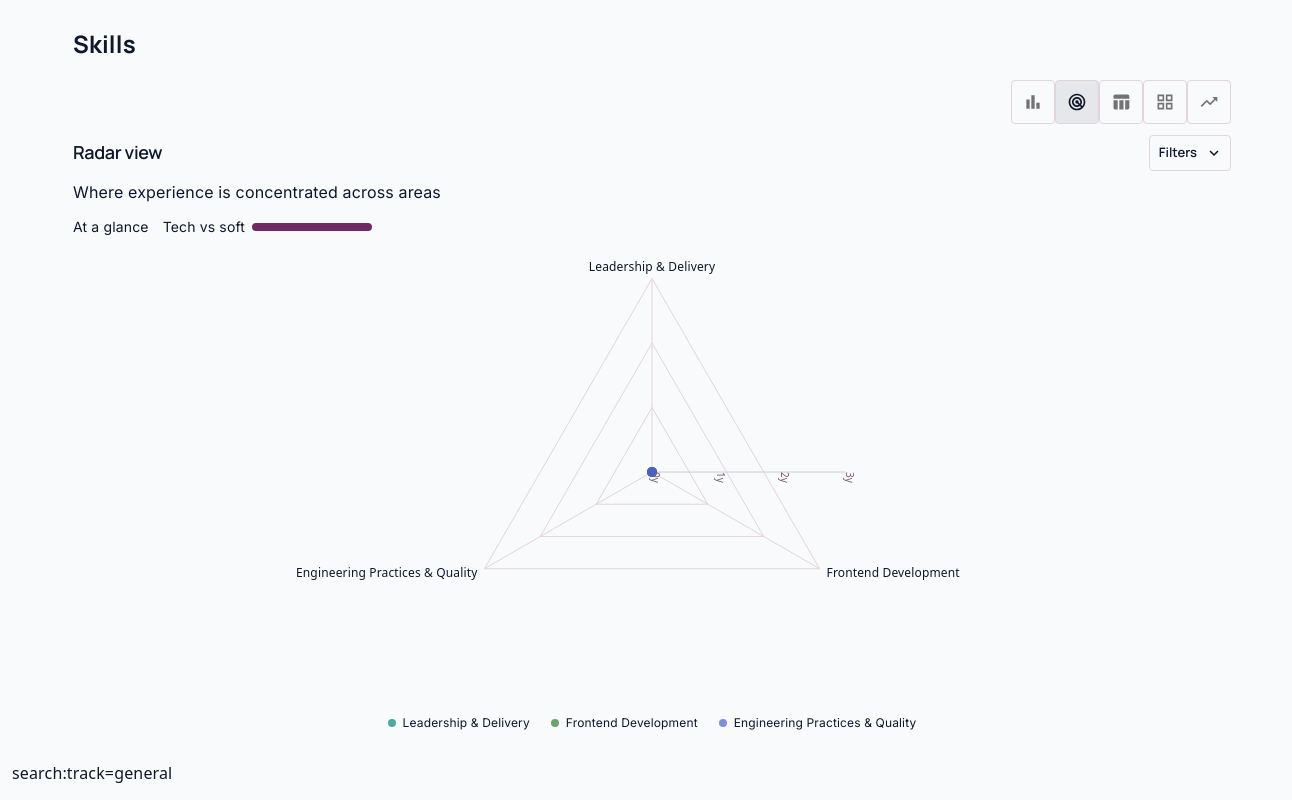
Test case: Skills › rendering › switches to a new view and shows its caption
Click the button named "Growth view" at (1209, 102), box [1187, 80, 1231, 124]
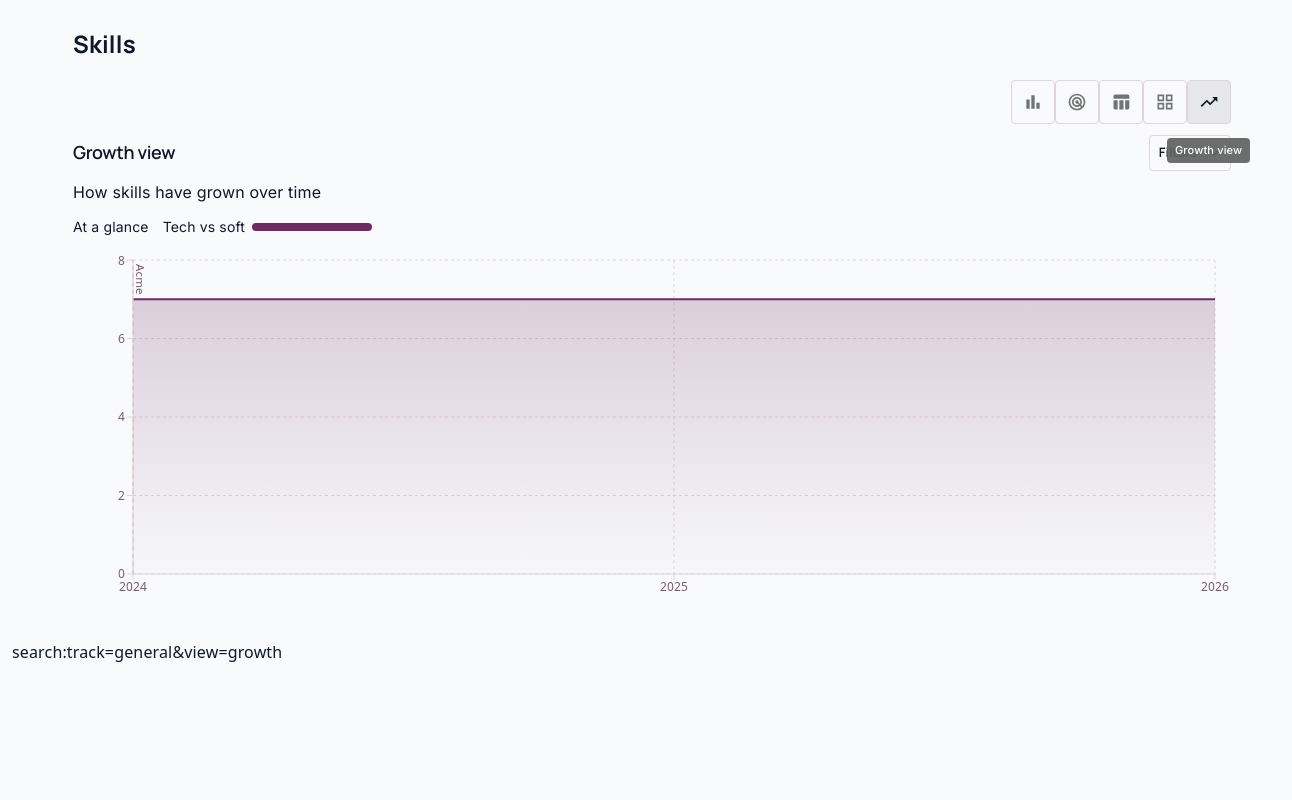
Now the text "How skills have grown over time" is shown, box [73, 182, 321, 202]
